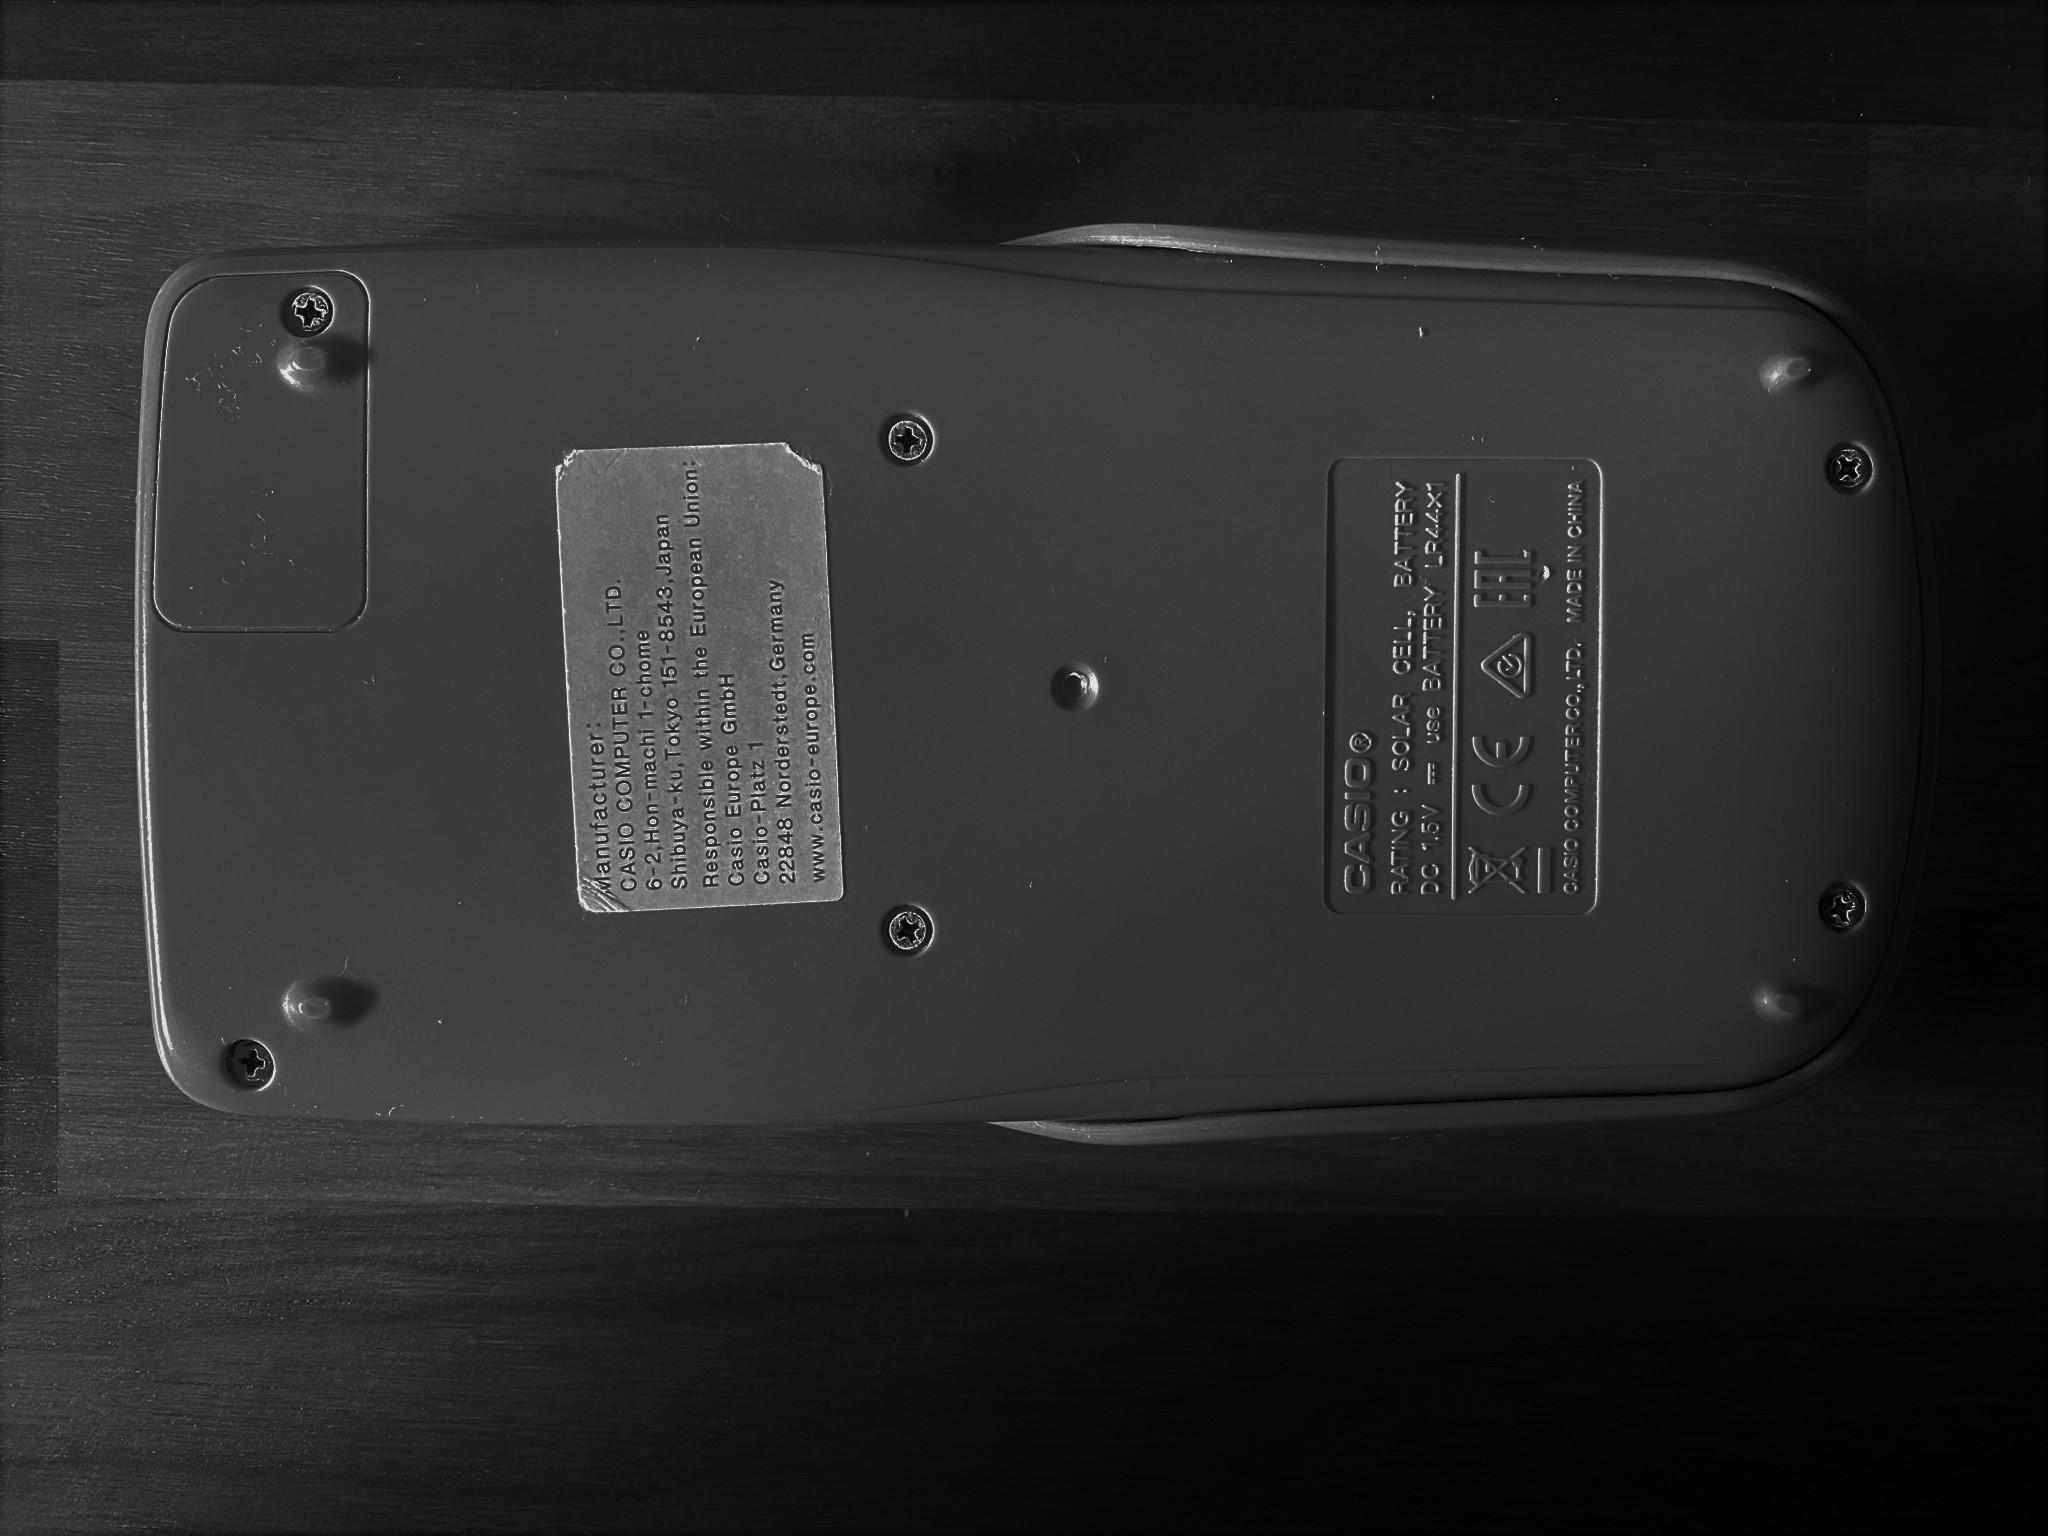PH: (224, 1036, 276, 1087), (1821, 883, 1869, 933), (283, 290, 336, 334), (887, 416, 931, 464), (886, 906, 930, 954), (1833, 446, 1869, 487)
